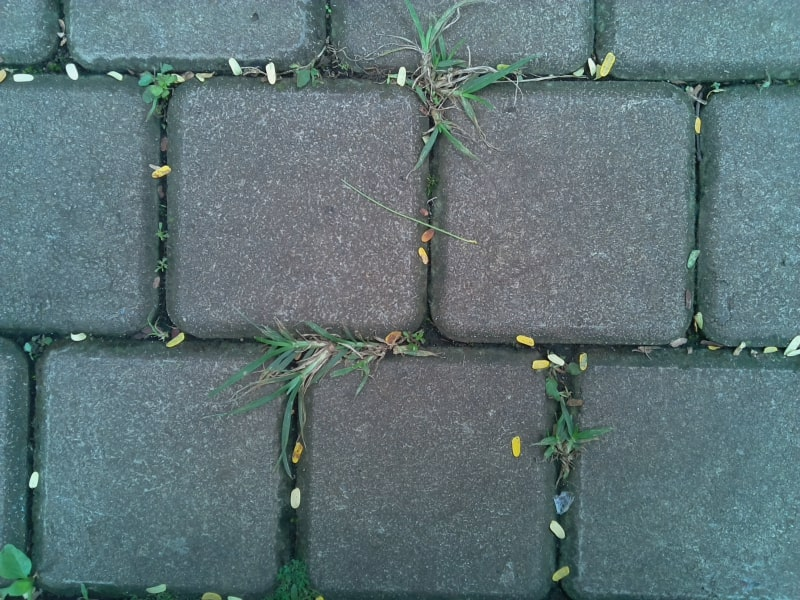Weed: (222, 307, 400, 466), (437, 64, 548, 118), (405, 1, 441, 130), (543, 381, 588, 470), (1, 542, 43, 598), (286, 56, 349, 89), (135, 66, 179, 102), (272, 564, 308, 600), (22, 334, 52, 358), (147, 322, 171, 344), (151, 223, 170, 249), (152, 256, 172, 274)
